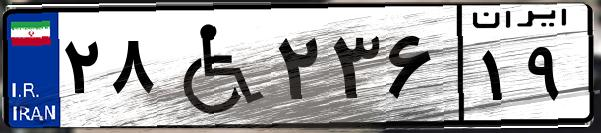1: (475, 38, 525, 113)
2: (270, 28, 330, 110), (57, 26, 110, 100)
3: (330, 28, 385, 110)
6: (385, 28, 445, 110)
8: (110, 28, 158, 98)
9: (525, 38, 570, 115)
ژ (معلولین و جانبازان): (158, 12, 270, 120)
